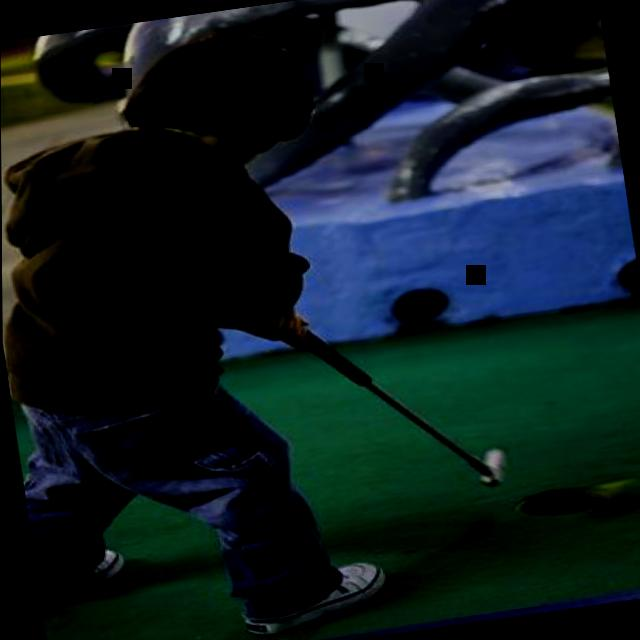golf ball: (568, 459, 640, 526)
